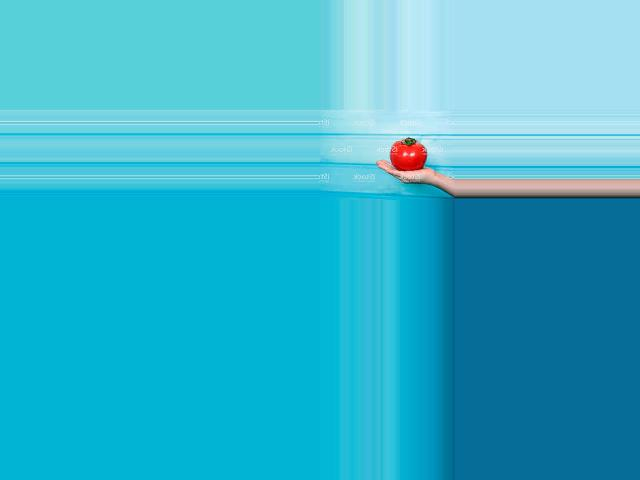tomato: (389, 138, 425, 171)
